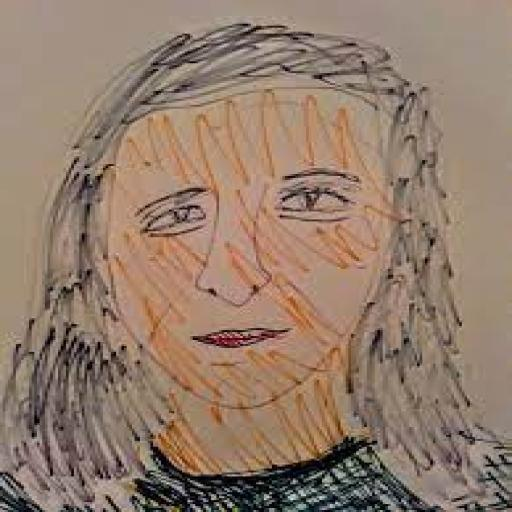person: (1, 13, 512, 505)
